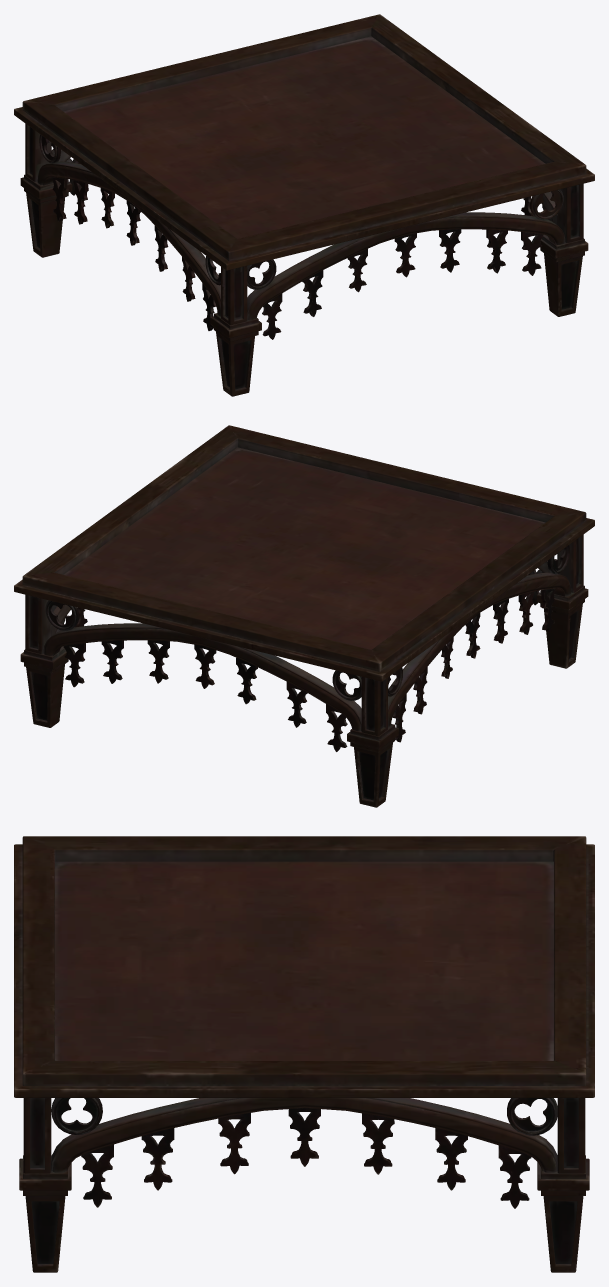
Rendered from gothic_coffee_table.glb.
3 renders of one model, top to bottom at view 1: azimuth 30°, elevation 25°; view 2: azimuth 150°, elevation 25°; view 3: azimuth 270°, elevation 25°, orthographic. The views are drawn at different scales.
Parts seen in each view (by area): view 1: gothic_coffee_table; view 2: gothic_coffee_table; view 3: gothic_coffee_table.
Boxes of the visible parts, bbox=[...] form: gothic_coffee_table: bbox=[14, 14, 594, 396]; gothic_coffee_table: bbox=[14, 425, 594, 807]; gothic_coffee_table: bbox=[14, 836, 594, 1272].
Size of the model in its own units: 1.44 by 0.5588 by 1.44.
1 material, 1 textured.
